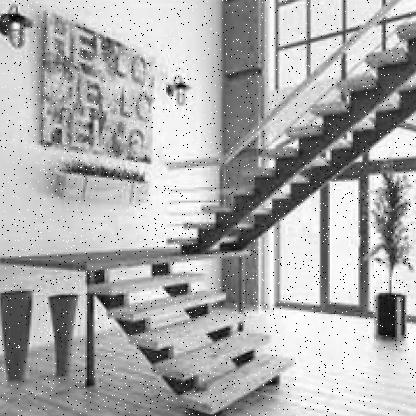stair_up: (95, 253, 292, 412)
